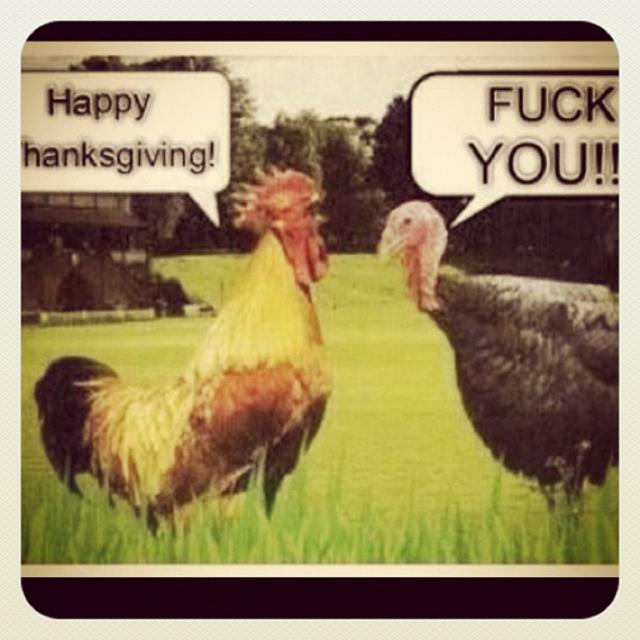Chicken: (43, 157, 322, 524)
